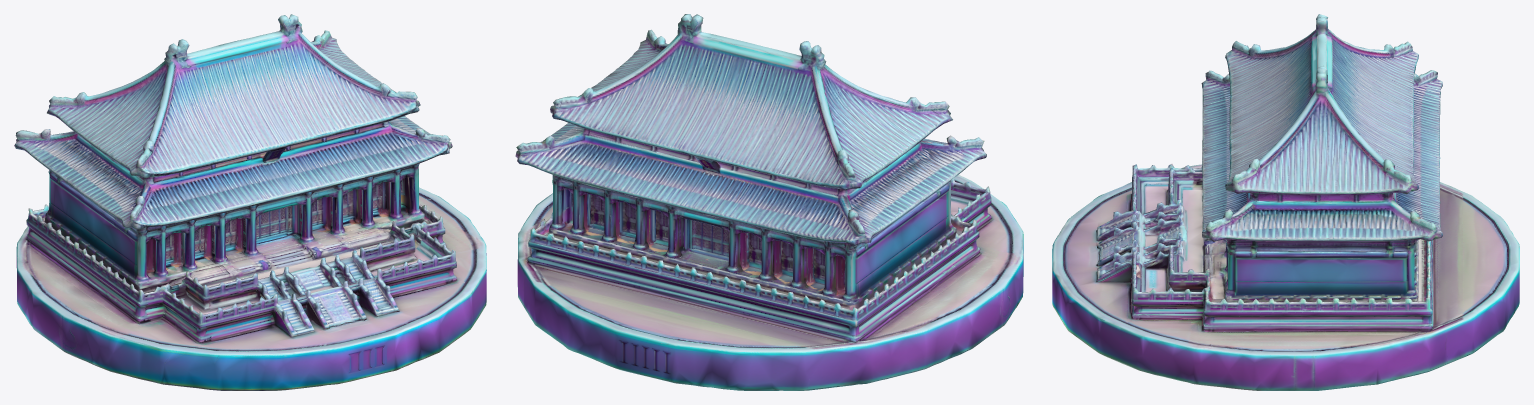
File: forbidden_city_aurora.glb
3 renders of one model, left to right at view 1: azimuth 30°, elevation 25°; view 2: azimuth 150°, elevation 25°; view 3: azimuth 270°, elevation 25°, orthographic. The views are drawn at different scales.
Visible parts, largest first — view 1: Mesh_0; view 2: Mesh_0; view 3: Mesh_0.
Part boxes in pixels (x1,y1,x2,y2): Mesh_0: (14, 14, 486, 390); Mesh_0: (515, 14, 1023, 390); Mesh_0: (1052, 14, 1519, 390).
Bounding box in the file's own units: 1.91 × 1.13 × 1.91.
1 material, 1 textured.
